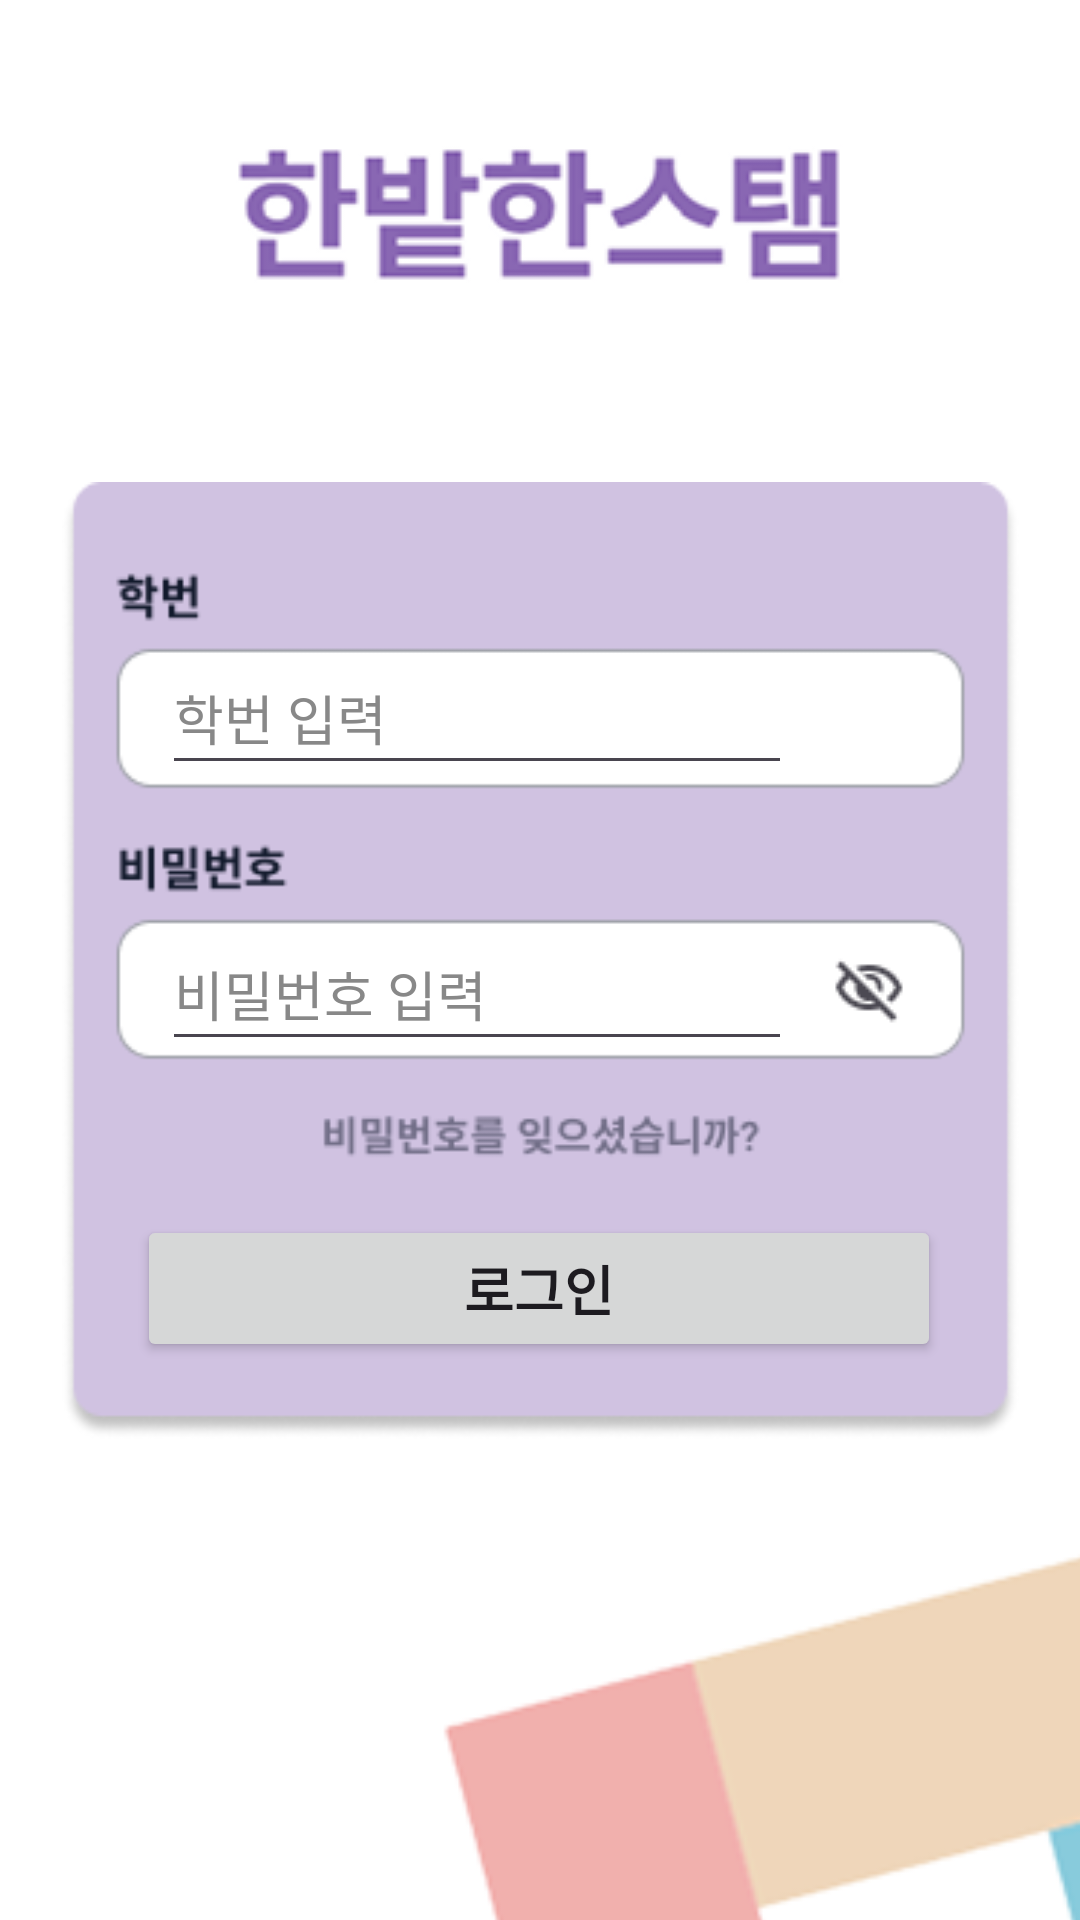

Icon click points for this 1080x1920 phone screenshot, format [x,y]:
비밀번호 보기 버튼: [869,989]
